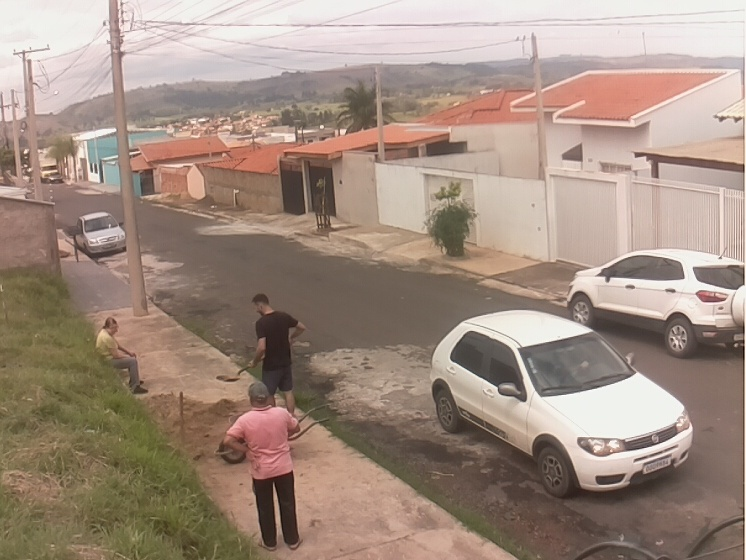person: (221, 380, 304, 552), (246, 293, 307, 419), (94, 316, 150, 396)
